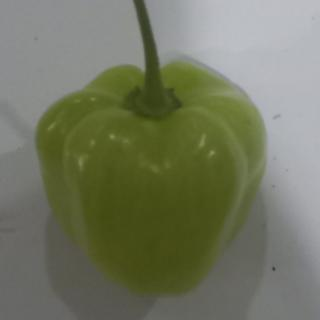Grade-B: (32, 46, 275, 296)
